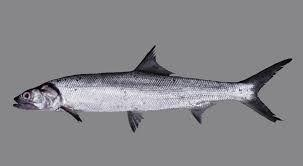Tenpounder: (14, 41, 293, 131)
